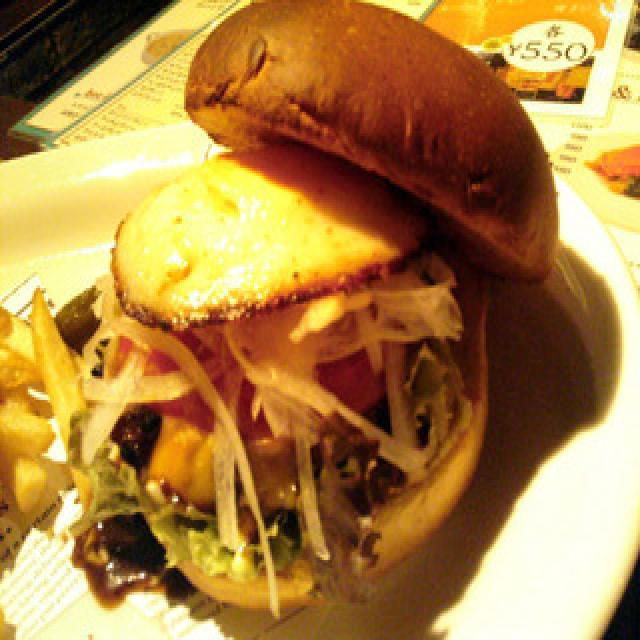Hamburger: (96, 2, 549, 590)
